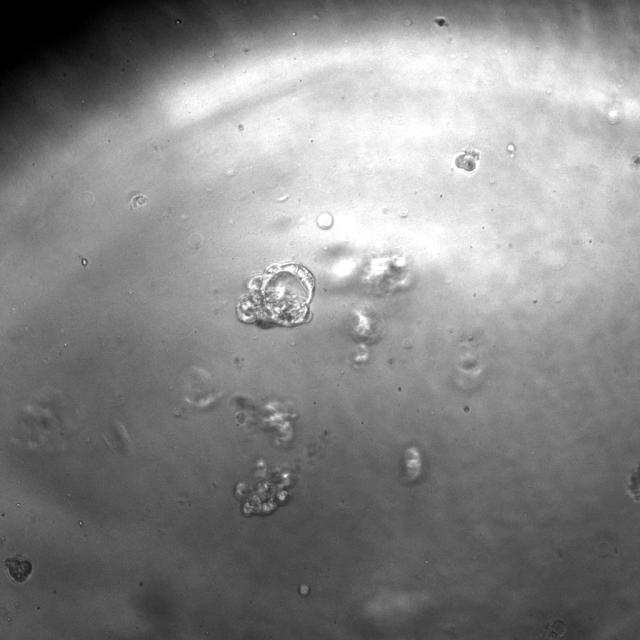organoid: (236, 263, 314, 328), (231, 395, 298, 448), (234, 460, 296, 517), (345, 304, 382, 368), (363, 252, 411, 294), (398, 445, 428, 485), (4, 555, 32, 584), (626, 461, 639, 503), (455, 150, 478, 172), (316, 212, 332, 229)
